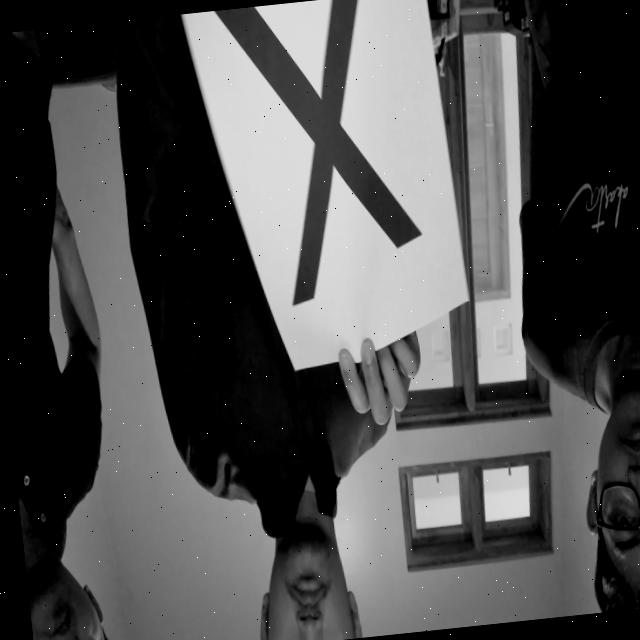x: (172, 0, 472, 329)
